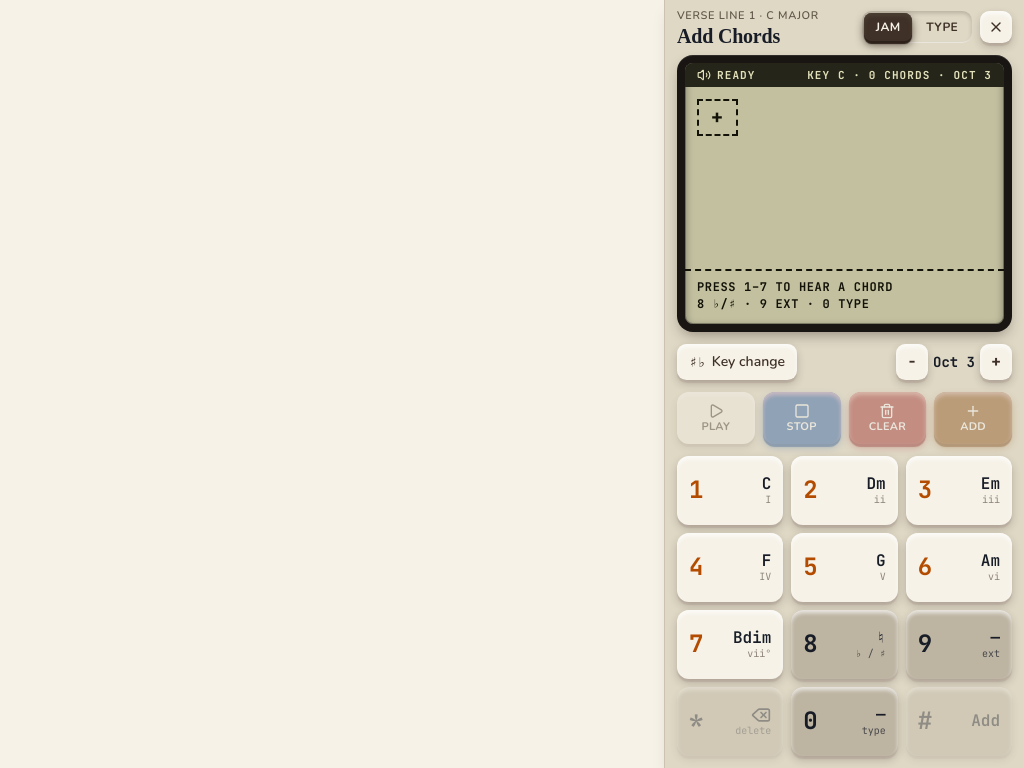
Scenario: JamCanvas › key change › pressing the toggle again removes the key change
Click the button named "1, ".
click(730, 490)  # box [677,456,783,525]
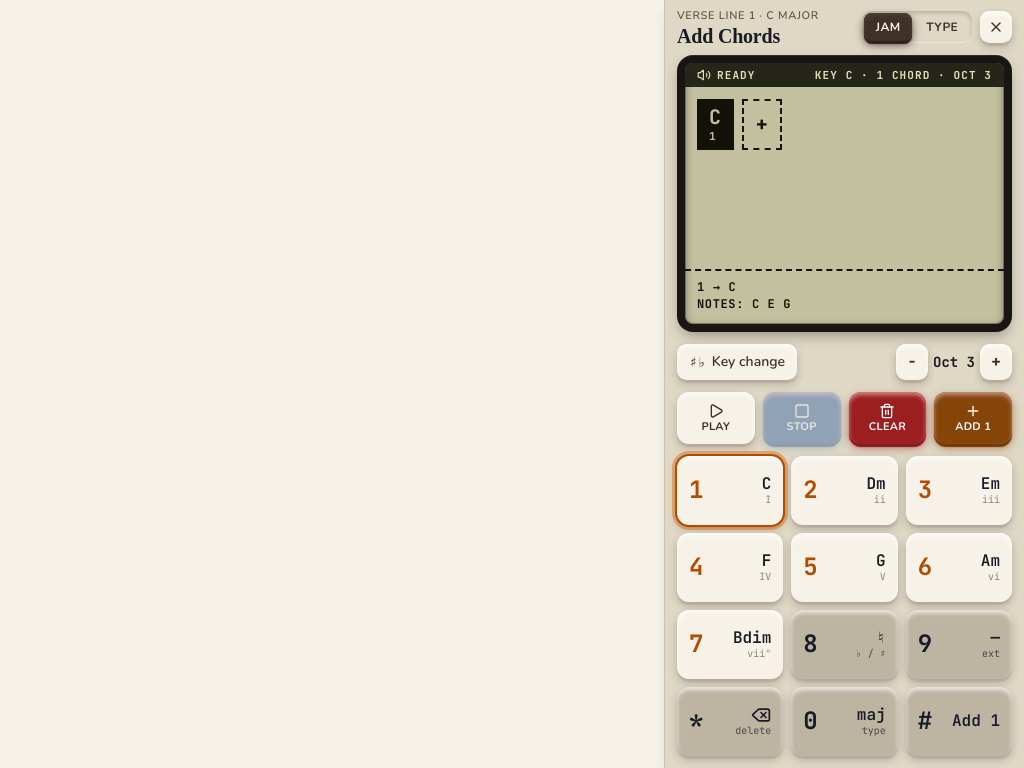
Click the button "♯♭ Key change".
click(737, 362)  # box [677,344,797,380]
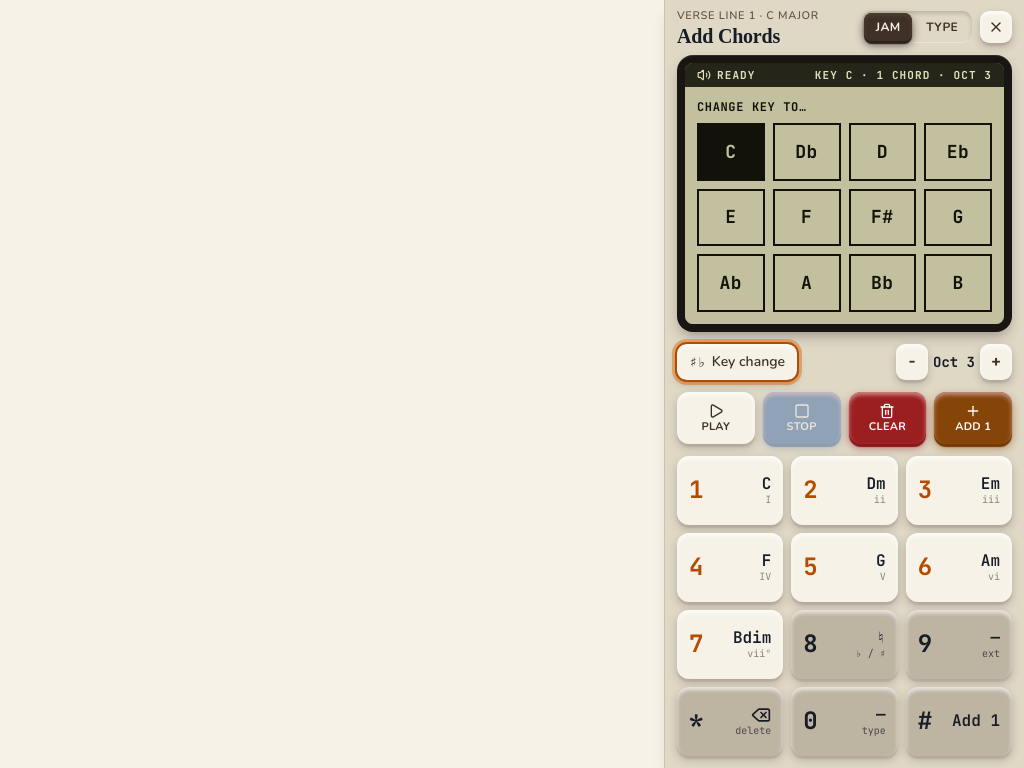
Click the button named "Key of G".
click(958, 217)  # box [924,188,992,246]
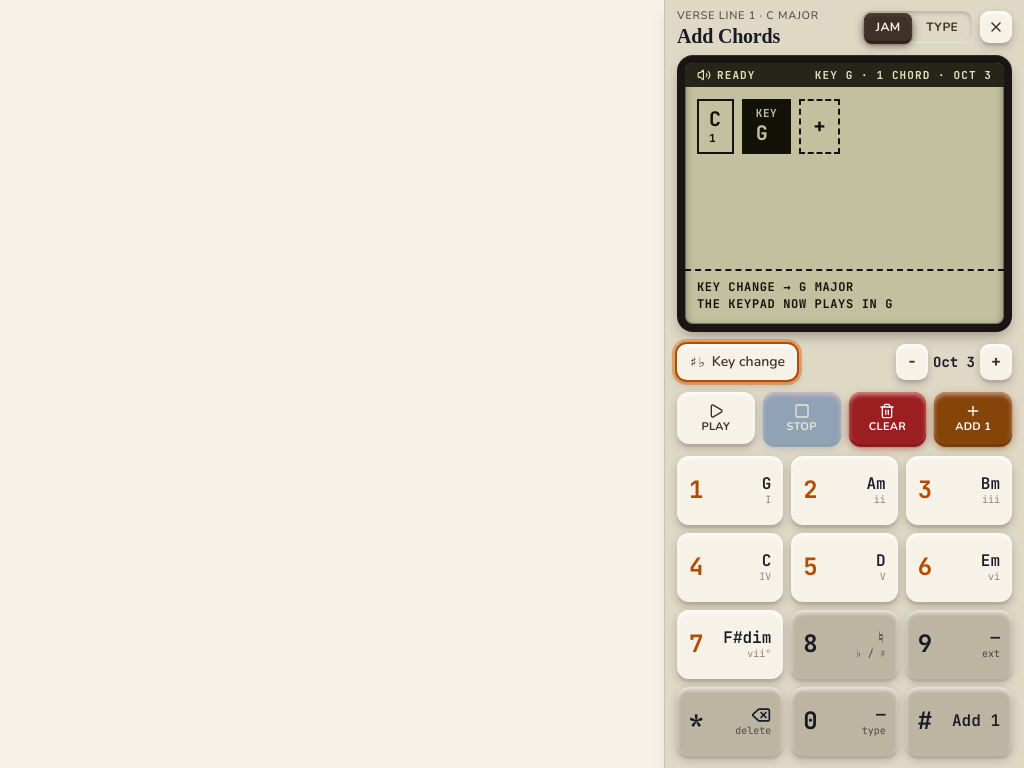
Click the button "♯♭ Key change".
click(737, 362)  # box [677,344,797,380]
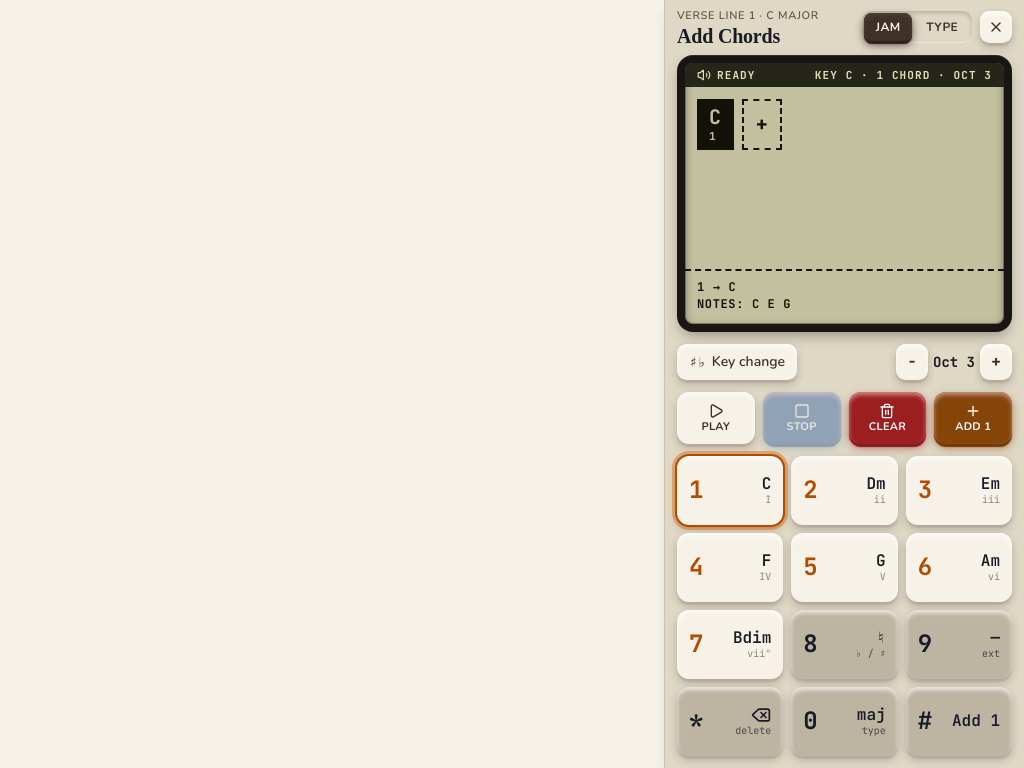
Check: the button named "1, C" is shown, box [677,456,783,525]
